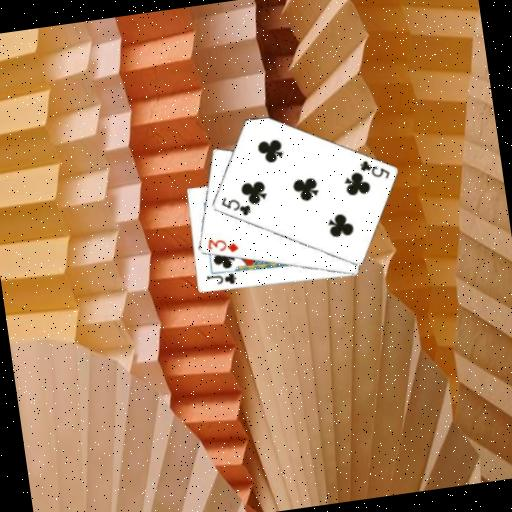3D: (203, 232, 241, 257)
5C: (356, 154, 392, 185), (217, 191, 253, 221)
JC: (203, 269, 239, 290)
